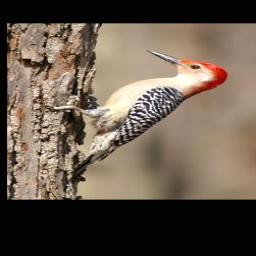Woodpecker: (42, 49, 233, 176)
